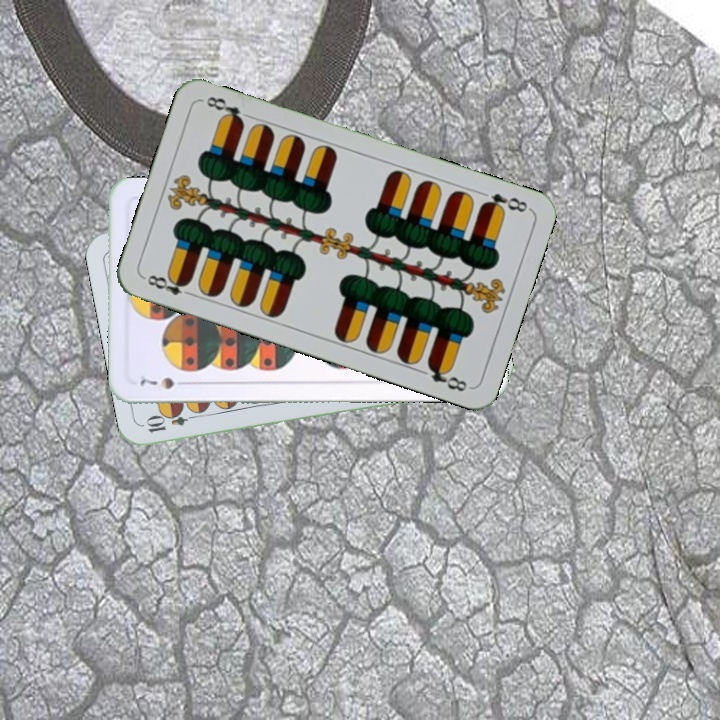E10: (142, 408, 201, 436)
E8: (474, 186, 532, 216), (140, 270, 197, 300)
S7: (136, 373, 192, 392)
